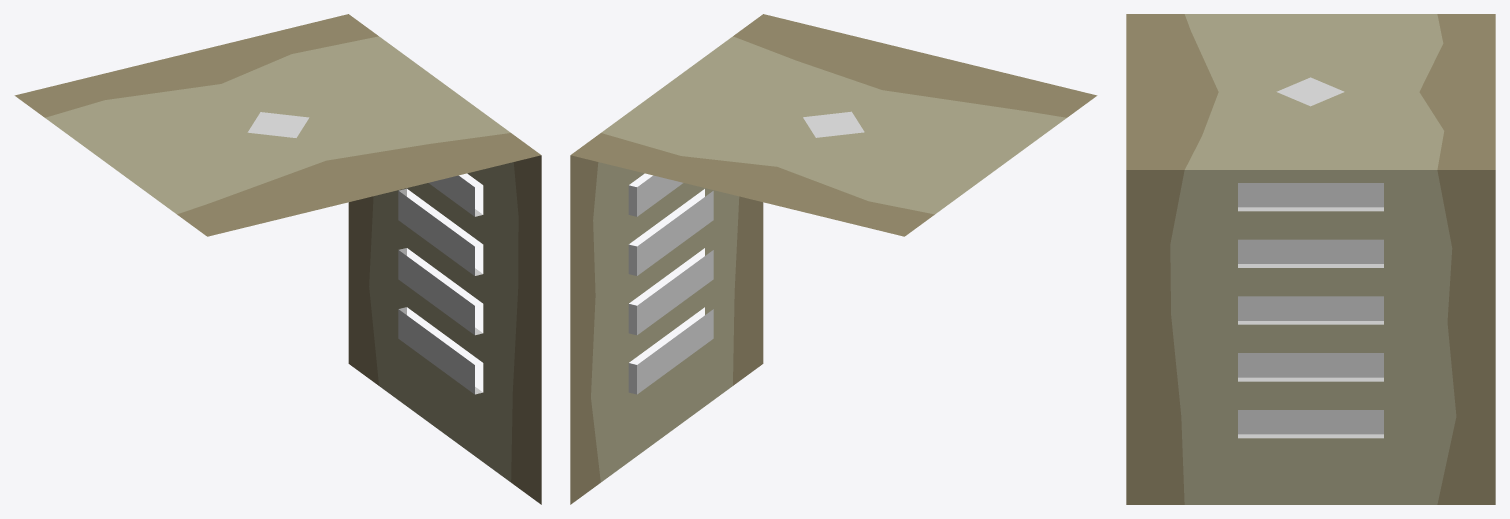
The model's file is 90S Left Straight.fbx.
The picture shows the model from 3 angles, left to right: view 1: azimuth 30°, elevation 25°; view 2: azimuth 150°, elevation 25°; view 3: azimuth 270°, elevation 25°; orthographic projection. The views are drawn at different scales.
Visible parts, largest first — view 1: polySurface7488; view 2: polySurface7488; view 3: polySurface7488.
Boxes of the visible parts, x1,y1,x2,y2 form: polySurface7488: (14,14,541,504); polySurface7488: (570,14,1097,504); polySurface7488: (1126,14,1495,504).
Bounding box in the file's own units: 100 × 100 × 100.
